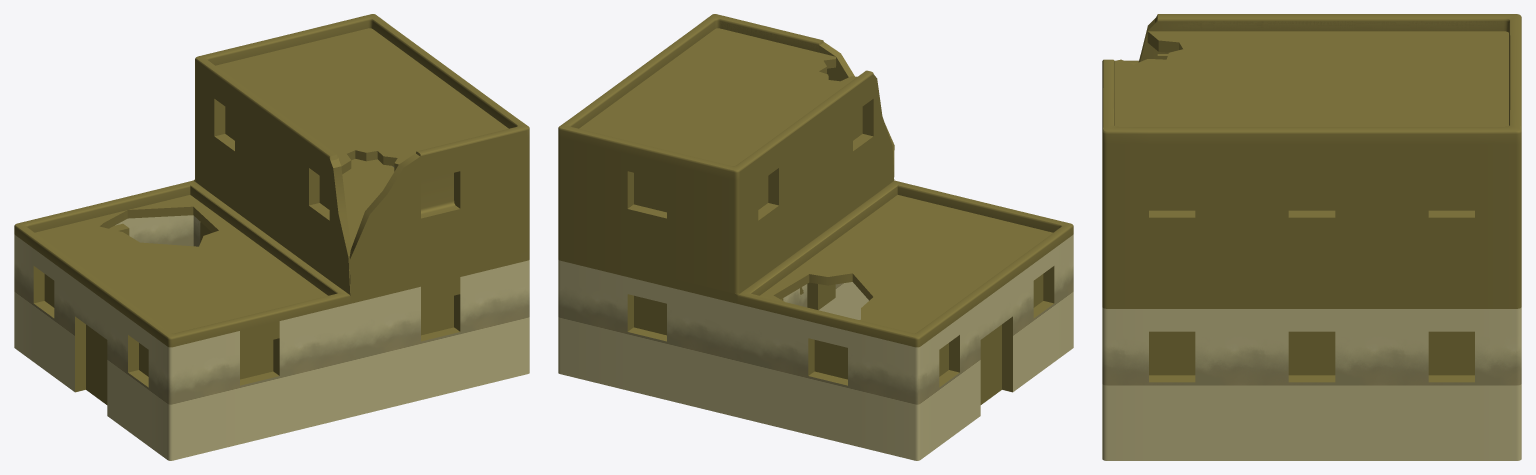
The model's file is CasaDobleRota.FBX.
3 renders of one model, left to right at view 1: azimuth 30°, elevation 25°; view 2: azimuth 150°, elevation 25°; view 3: azimuth 270°, elevation 25°, orthographic. The views are drawn at different scales.
Parts seen in each view (by area): view 1: Box006, Box004, Box005; view 2: Box006, Box004, Box005; view 3: Box006, Box005.
Part boxes in pixels (box(x1,y1,x2,y2)): Box006: box(35, 14, 529, 333); Box004: box(14, 180, 350, 460); Box005: box(193, 159, 529, 417); Box006: box(558, 14, 1052, 333); Box004: box(737, 180, 1073, 460); Box005: box(558, 180, 894, 417); Box006: box(1102, 14, 1521, 296); Box005: box(1102, 295, 1521, 460).
Bounding box in the file's own units: 20 × 13 × 15.
2 materials, 1 textured.
